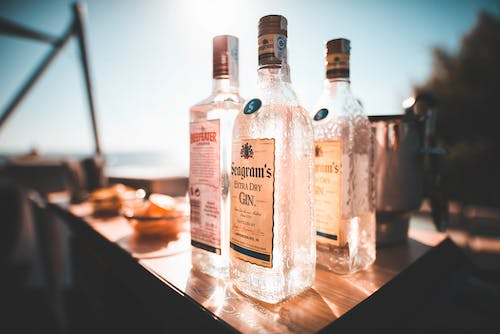alcohol: (227, 12, 316, 305), (309, 37, 378, 276), (188, 33, 248, 280)
